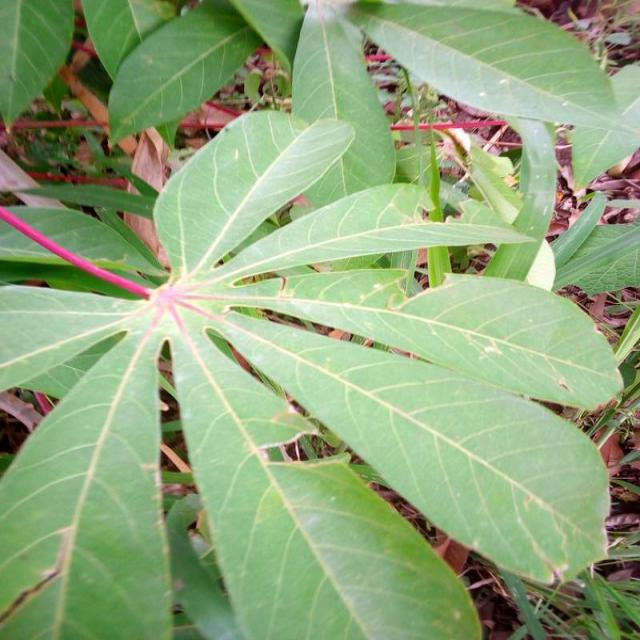cassava leaf: (1, 103, 622, 638)
